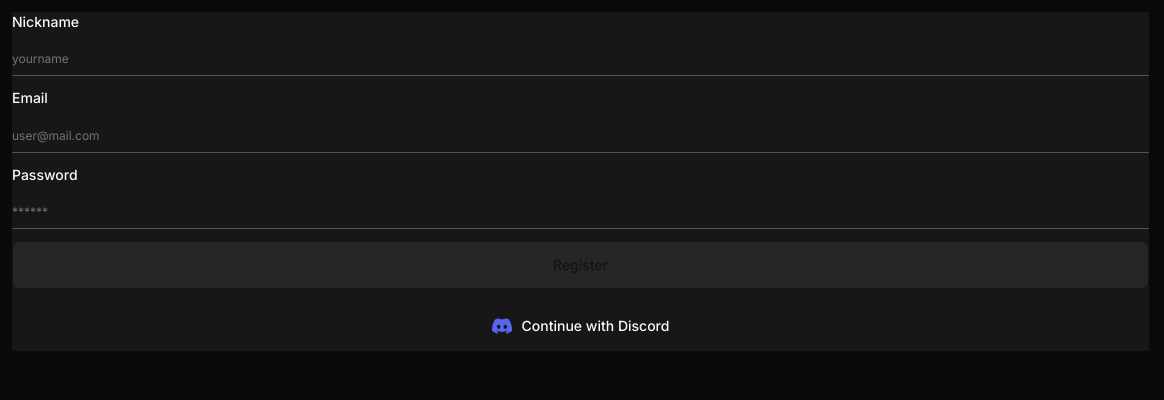
Test case: RegisterForm › shows an inline field error on invalid email without submitting
Type "not-an-email" into the field labelled "Email".
click(580, 136); type("not-an-email")  # box [12, 120, 1149, 152]
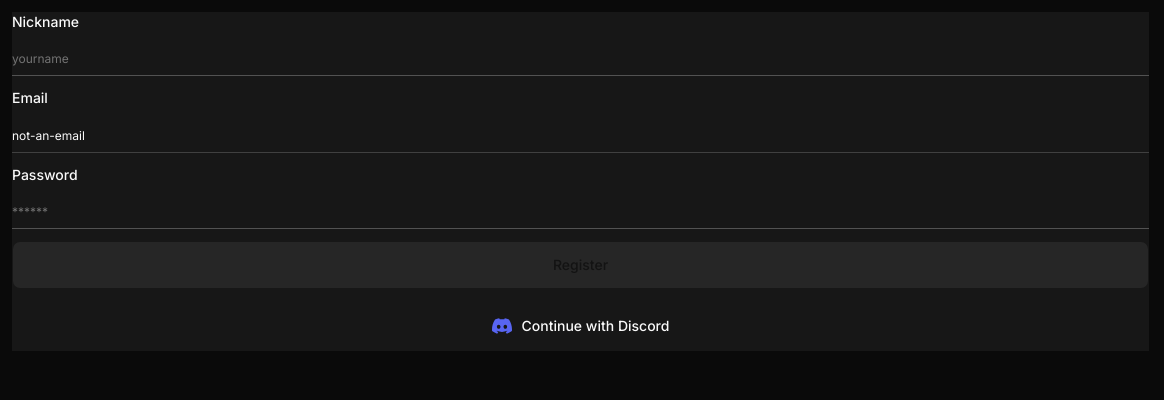
Press Tab
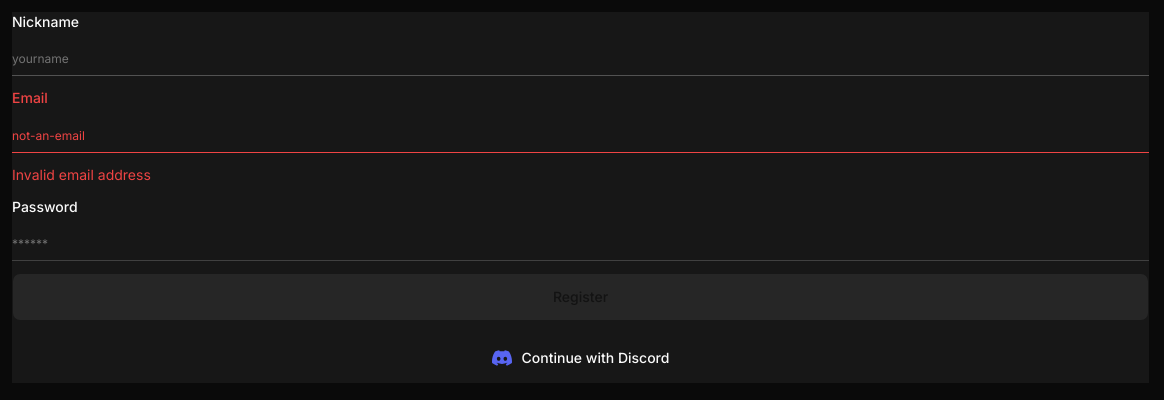
Result: the text "Invalid email address" is shown at [12, 166, 151, 182]
